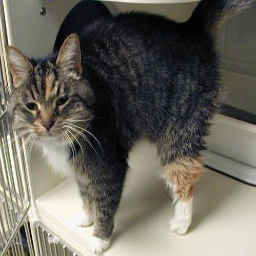cat: (3, 7, 218, 245)
